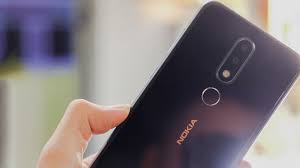nokia: (89, 3, 300, 168)
